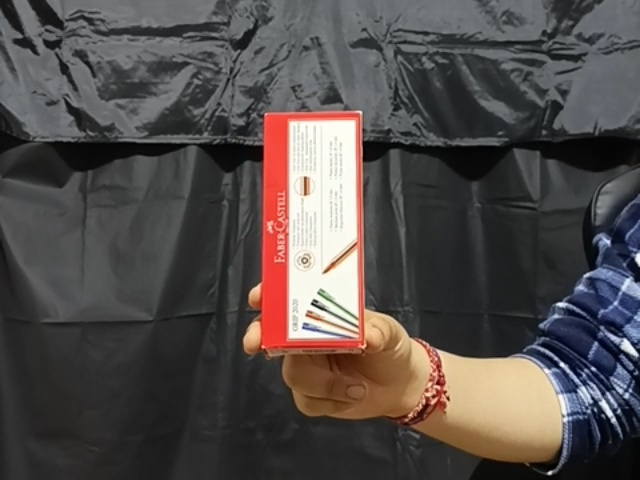xd: (261, 109, 366, 357)
